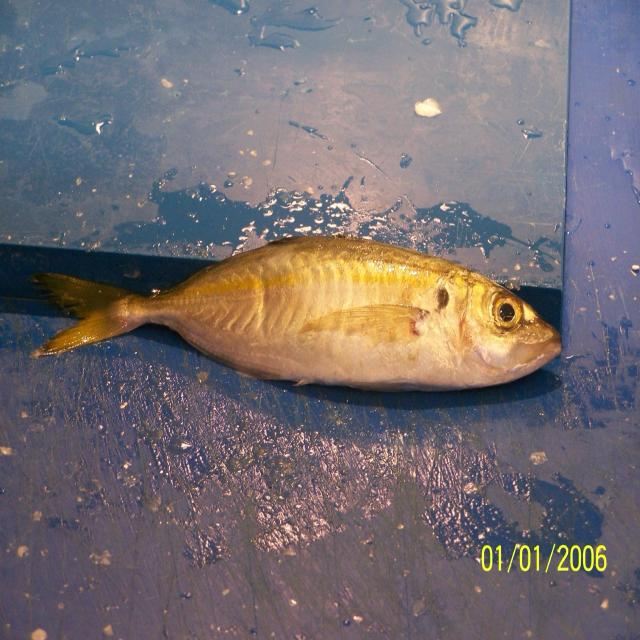Hourse-Mackerel-istavrit-: (30, 236, 562, 393)
